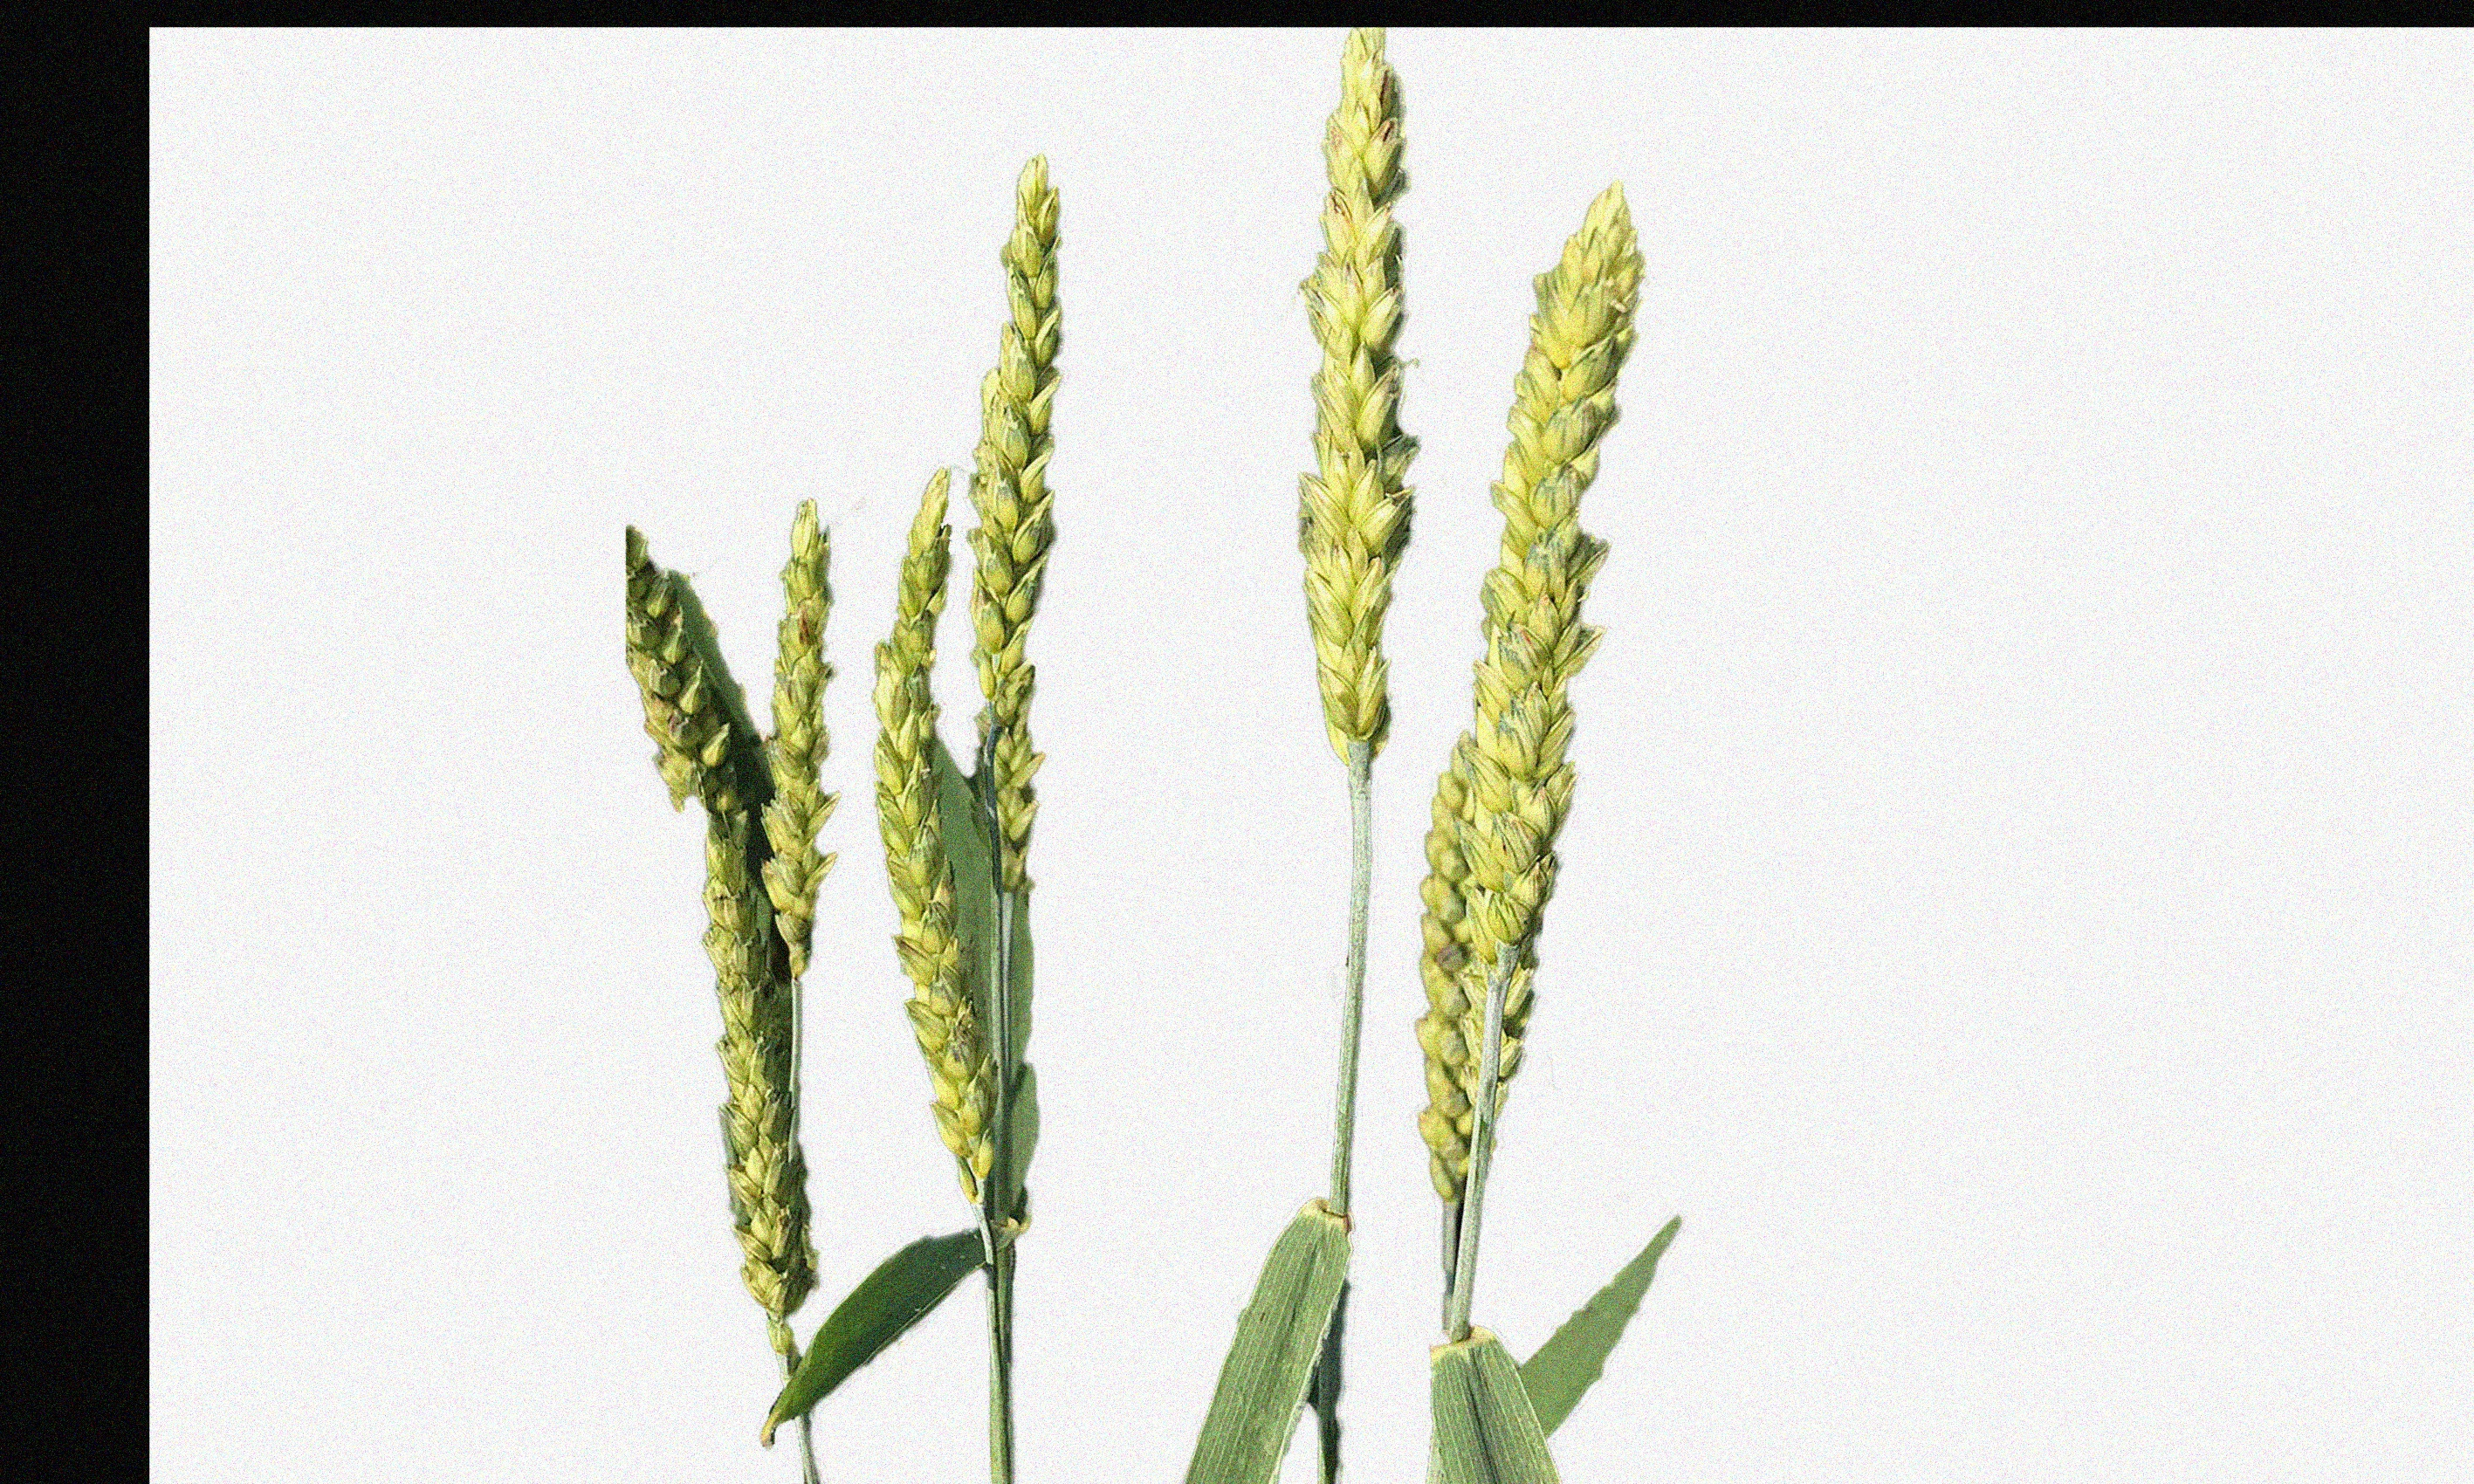wheat: (1406, 164, 1630, 1383), (867, 127, 1084, 1311), (623, 461, 842, 1341), (1234, 32, 1430, 949)
